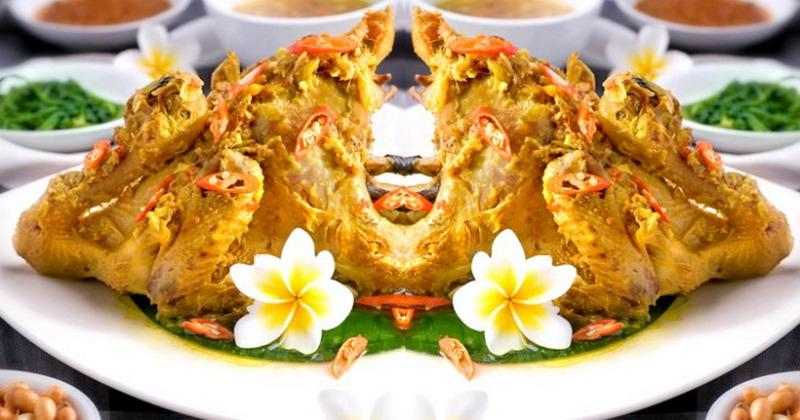ayam_betutu: (12, 5, 795, 328)
